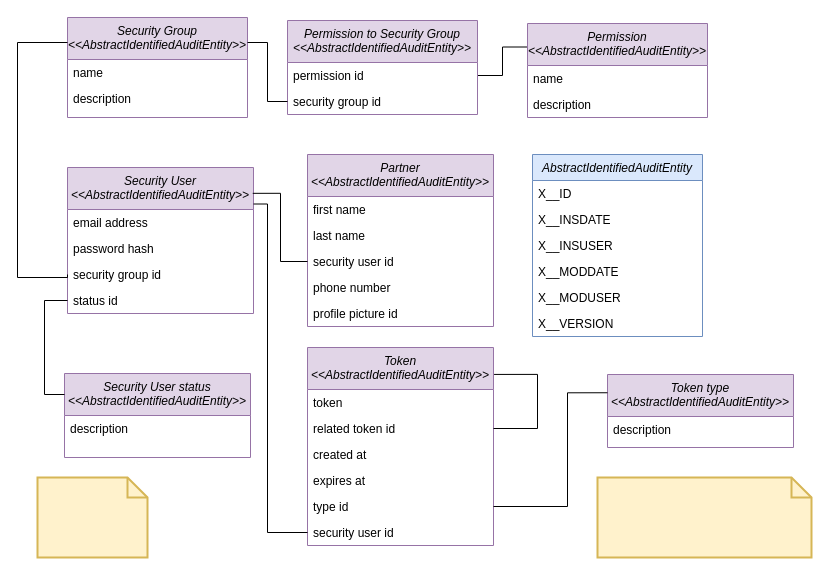
Some shapes in this 830 by 576 pixel diagram are drawn without their labels. Here are the shapes that lost their labels. From the top down, the centre of each, then its label:
the point at 92,517: ACTIVE INACTIVE BANNED
the point at 704,517: ACCESS_TOKEN REFRESH_TOKEN ACTIVATION_TOKEN RESET_PASSWORD_TOKEN
